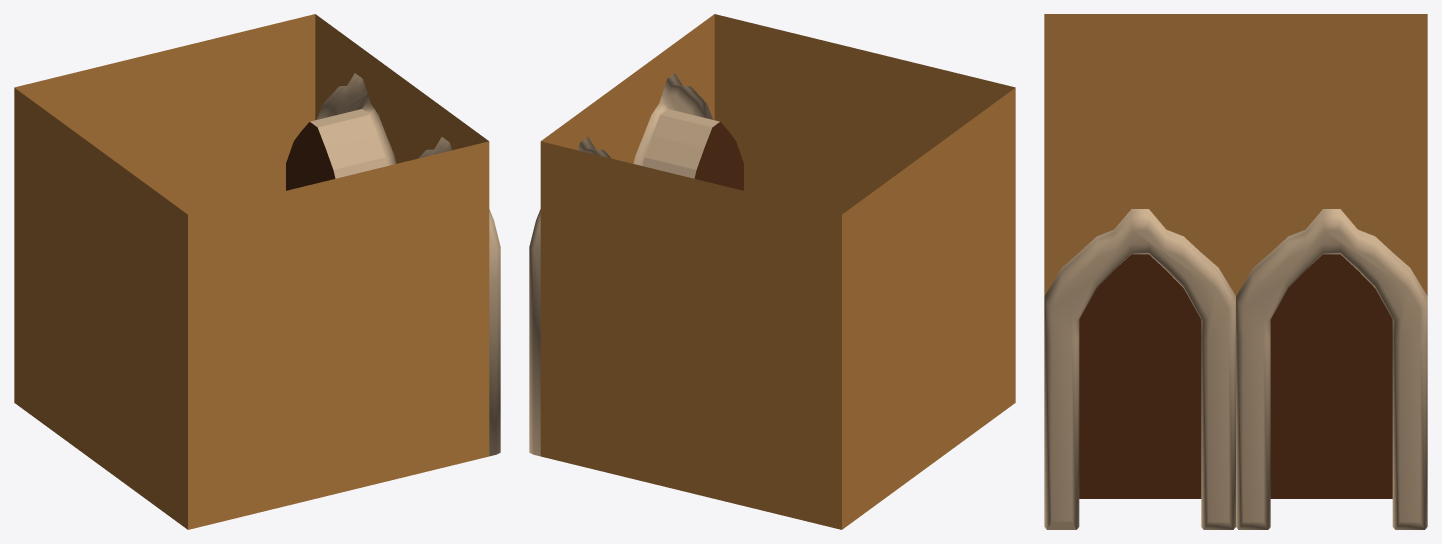
Rendered from Gaudi bottom 4x4.fbx.
3 views of the same model, side by side, from view 1: azimuth 30°, elevation 25°; view 2: azimuth 150°, elevation 25°; view 3: azimuth 270°, elevation 25° (orthographic). The views are drawn at different scales.
Parts seen in each view (by area): view 1: Gaudi bottom 4; view 2: Gaudi bottom 4; view 3: Gaudi bottom 4.
Boxes of the visible parts, x1,y1,x2,y2 form: Gaudi bottom 4: (14, 14, 500, 529); Gaudi bottom 4: (529, 14, 1015, 529); Gaudi bottom 4: (1044, 14, 1427, 529).
Bounding box in the file's own units: 418 × 400 × 400.
